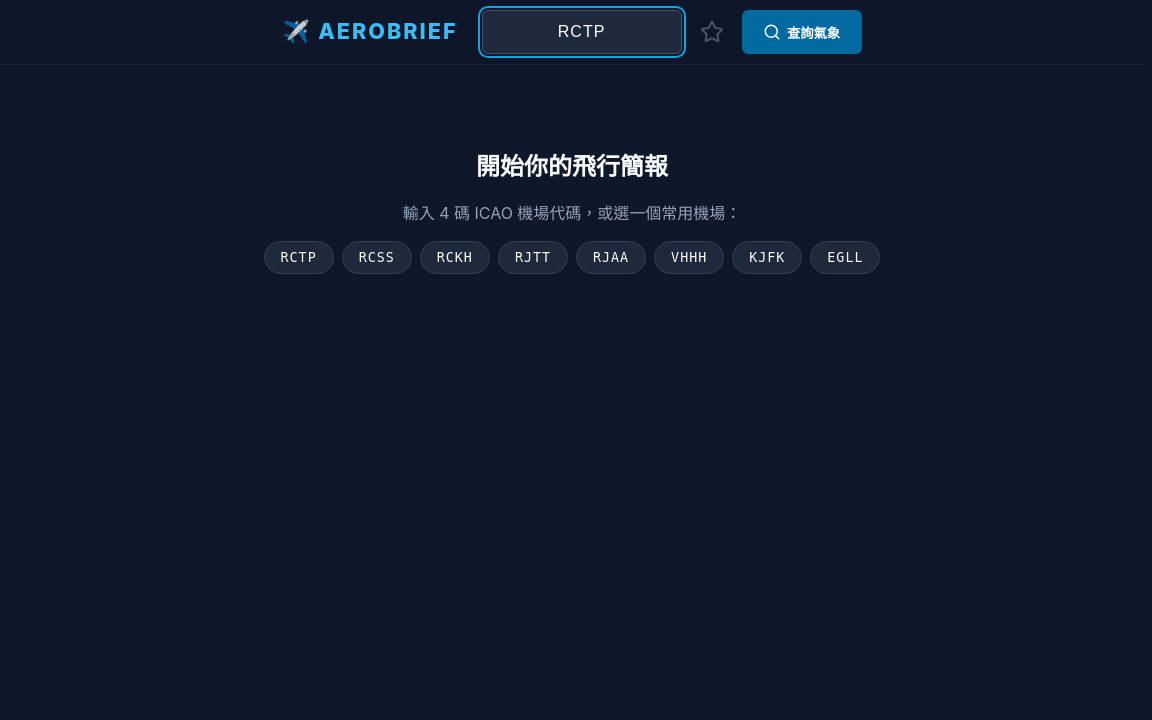
it: aircraft selector and limits stay consistent › REGRESSION: first load shows CUSTOM with the limits actually applied
Click the button "查詢氣象" at (802, 32), box [742, 10, 862, 54]
(page scrolled)
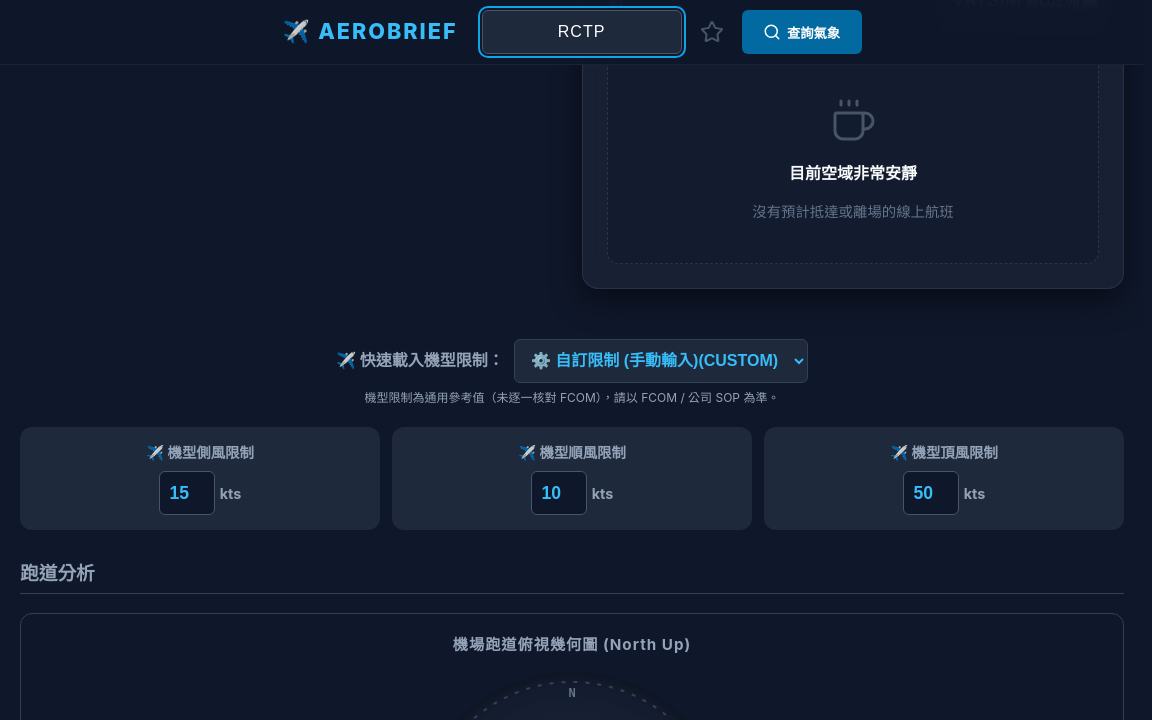
Now the dropdown labelled "✈️ 快速載入機型限制：" shows "⚙️ 自訂限制 (手動輸入)(CUSTOM)", box [514, 339, 808, 383]
